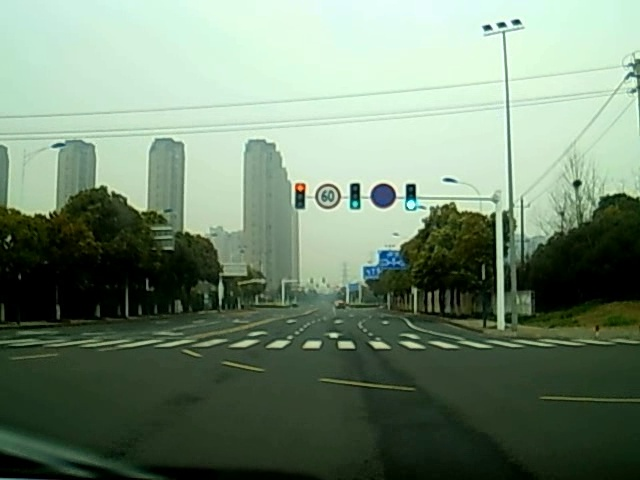Traffic_Light_go: (349, 184, 361, 211), (406, 185, 418, 212)
Traffic_Light_stop: (294, 182, 305, 212)
